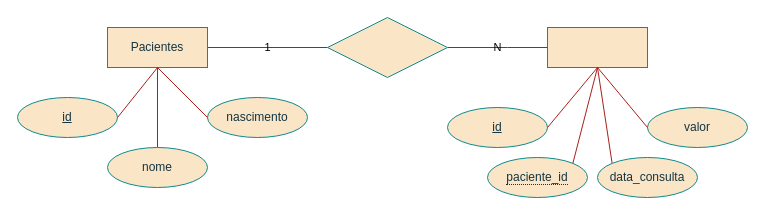
The diagram is 765 pixels wide and 215 high, and some of its shapes have lost their labels. Here are the shapes that lost their labels. From the top down, the centre of each, then its label:
the point at 387,47: faz
the point at 597,47: Consultas
